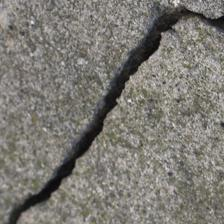Crack: (5, 4, 214, 218)
